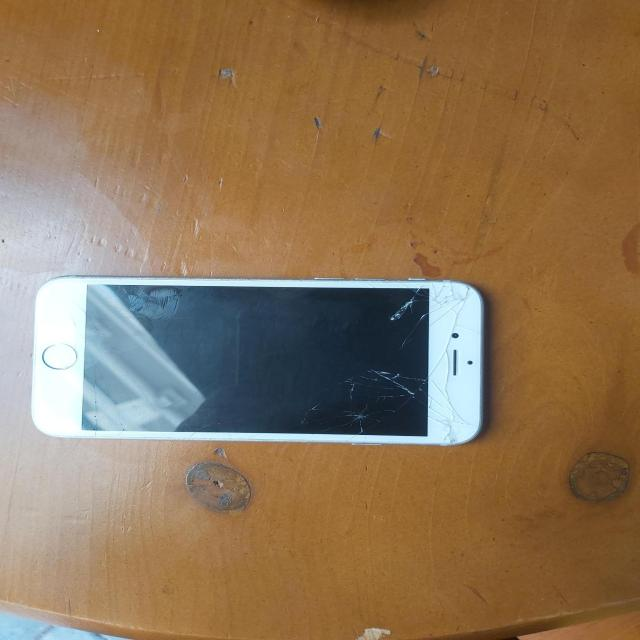Smartphone: (17, 269, 500, 458)
